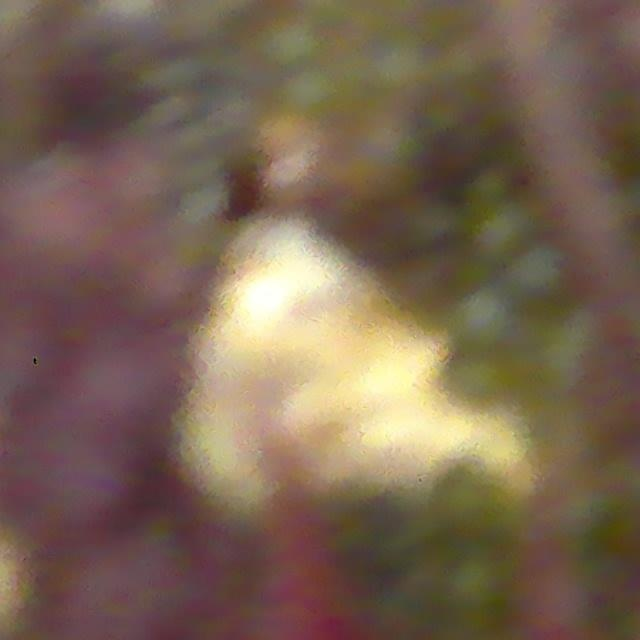SeaGrape: (429, 466, 495, 534), (442, 351, 508, 410), (453, 290, 513, 353), (446, 555, 504, 613)
